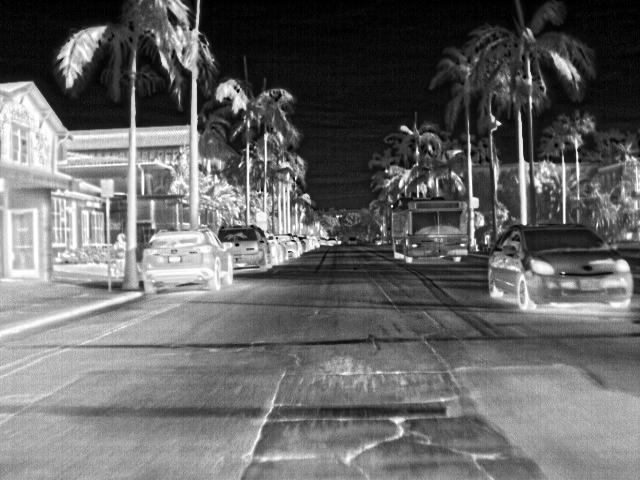car: (487, 221, 635, 313), (142, 228, 234, 294), (218, 224, 271, 273), (268, 231, 287, 265), (276, 230, 299, 258), (293, 234, 308, 254), (303, 234, 317, 252), (309, 235, 322, 248), (347, 234, 359, 246), (325, 237, 336, 246)
person: (115, 233, 129, 275)
